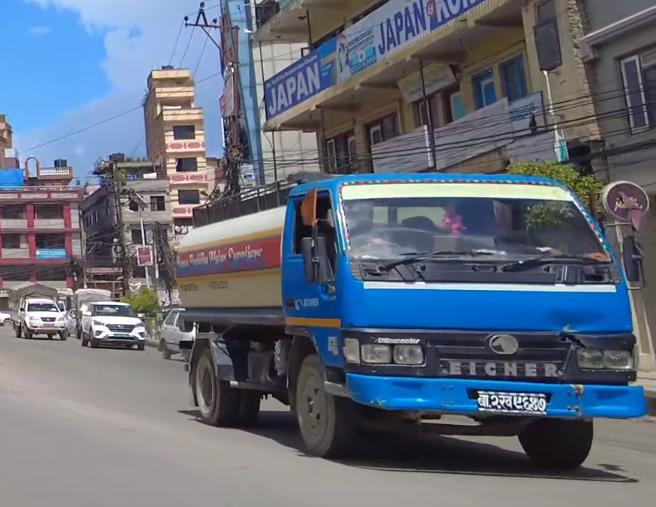car: (77, 297, 135, 351)
mini_truck: (165, 161, 645, 473)
transport_vehicle: (5, 279, 79, 351)
